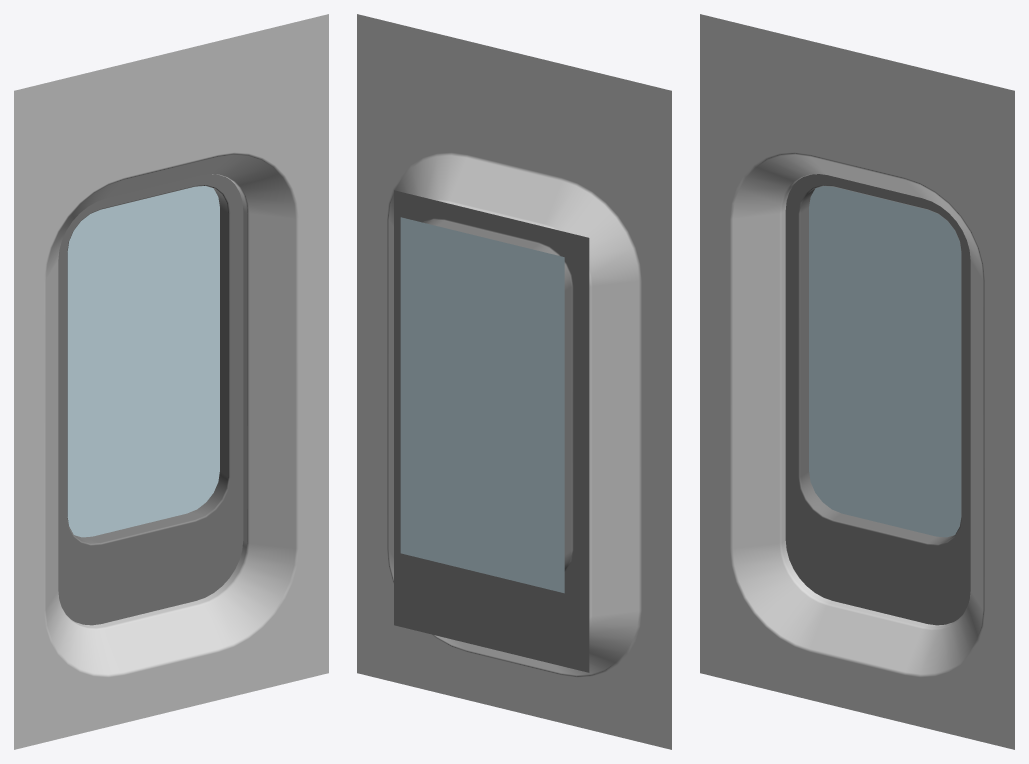
File: ApartmentExteriorWindowLarge02.fbx
The picture shows the model from 3 angles, left to right: view 1: azimuth 30°, elevation 25°; view 2: azimuth 150°, elevation 25°; view 3: azimuth 330°, elevation 25°; orthographic projection.
Parts seen in each view (by area): view 1: ApartmentExteriorWindowLarge02; view 2: ApartmentExteriorWindowLarge02; view 3: ApartmentExteriorWindowLarge02.
Boxes of the visible parts, x1,y1,x2,y2 form: ApartmentExteriorWindowLarge02: [14, 14, 328, 749]; ApartmentExteriorWindowLarge02: [357, 14, 671, 749]; ApartmentExteriorWindowLarge02: [700, 14, 1014, 749].
Bounding box in the file's own units: 200 × 400 × 35.
